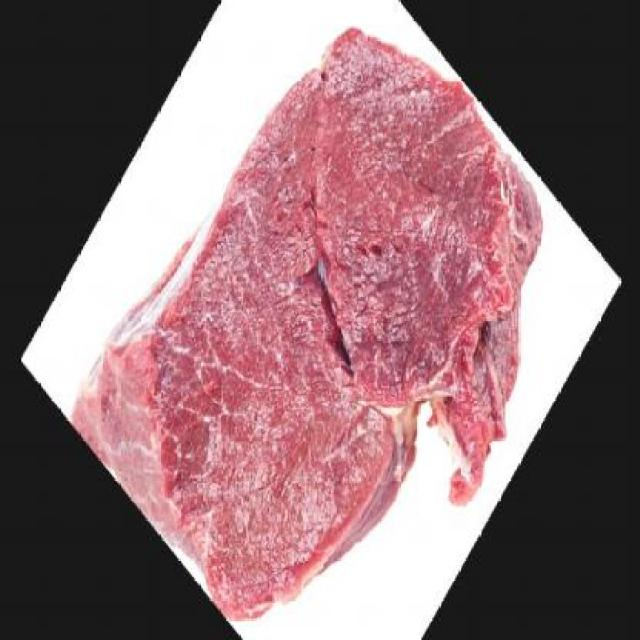beaf: (65, 27, 548, 615)
